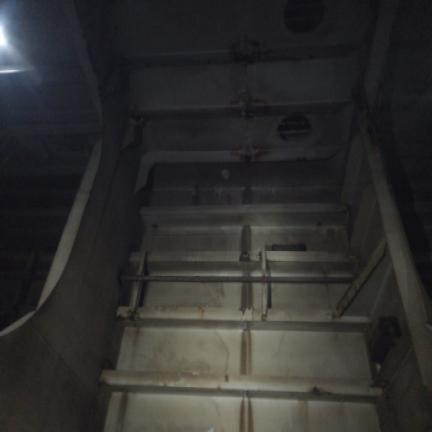besi_tidak_karat: (0, 0, 431, 431), (0, 77, 139, 431), (122, 248, 355, 282), (130, 66, 246, 112), (140, 204, 347, 228), (142, 117, 274, 151)
karat: (239, 330, 250, 375), (239, 393, 252, 431), (240, 225, 251, 255), (241, 282, 252, 308), (242, 186, 252, 204)
